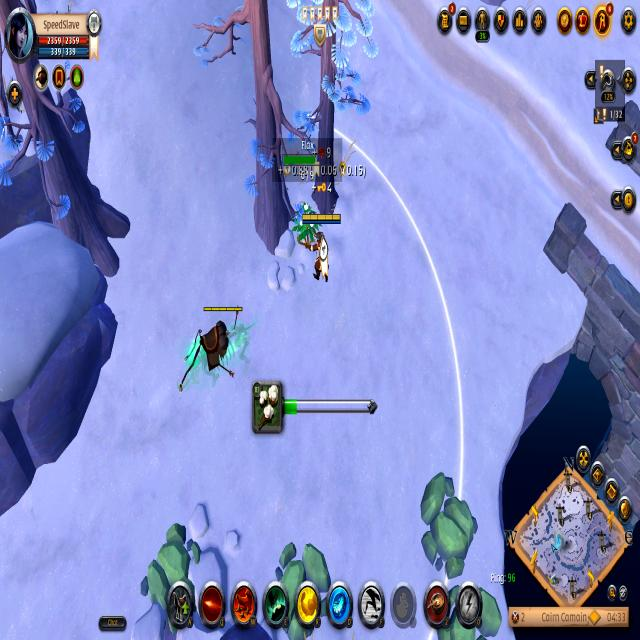hide: (294, 203, 322, 255)
red: (304, 206, 341, 288)
tree: (136, 514, 204, 628), (416, 468, 481, 586), (270, 531, 331, 640), (432, 581, 504, 640)
